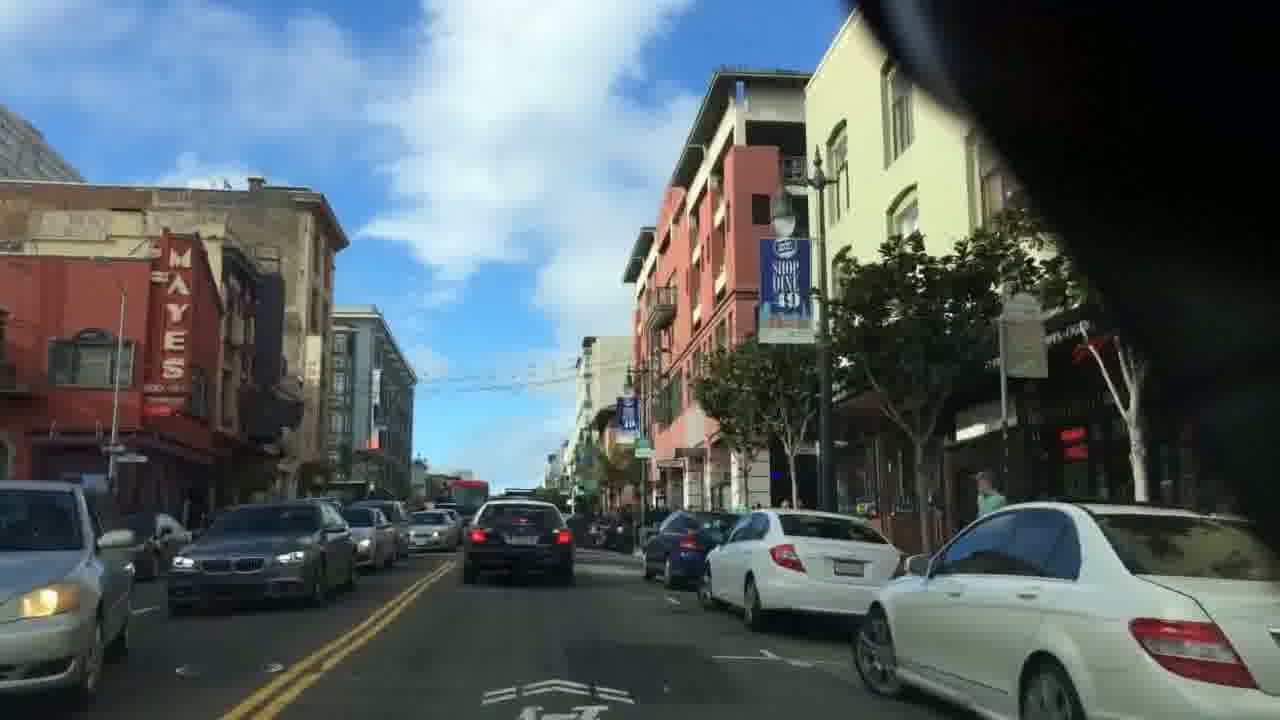car: (849, 499, 1280, 720), (0, 477, 136, 709), (699, 506, 905, 633), (166, 496, 356, 618), (462, 499, 576, 584), (639, 509, 742, 590), (404, 509, 457, 551)
